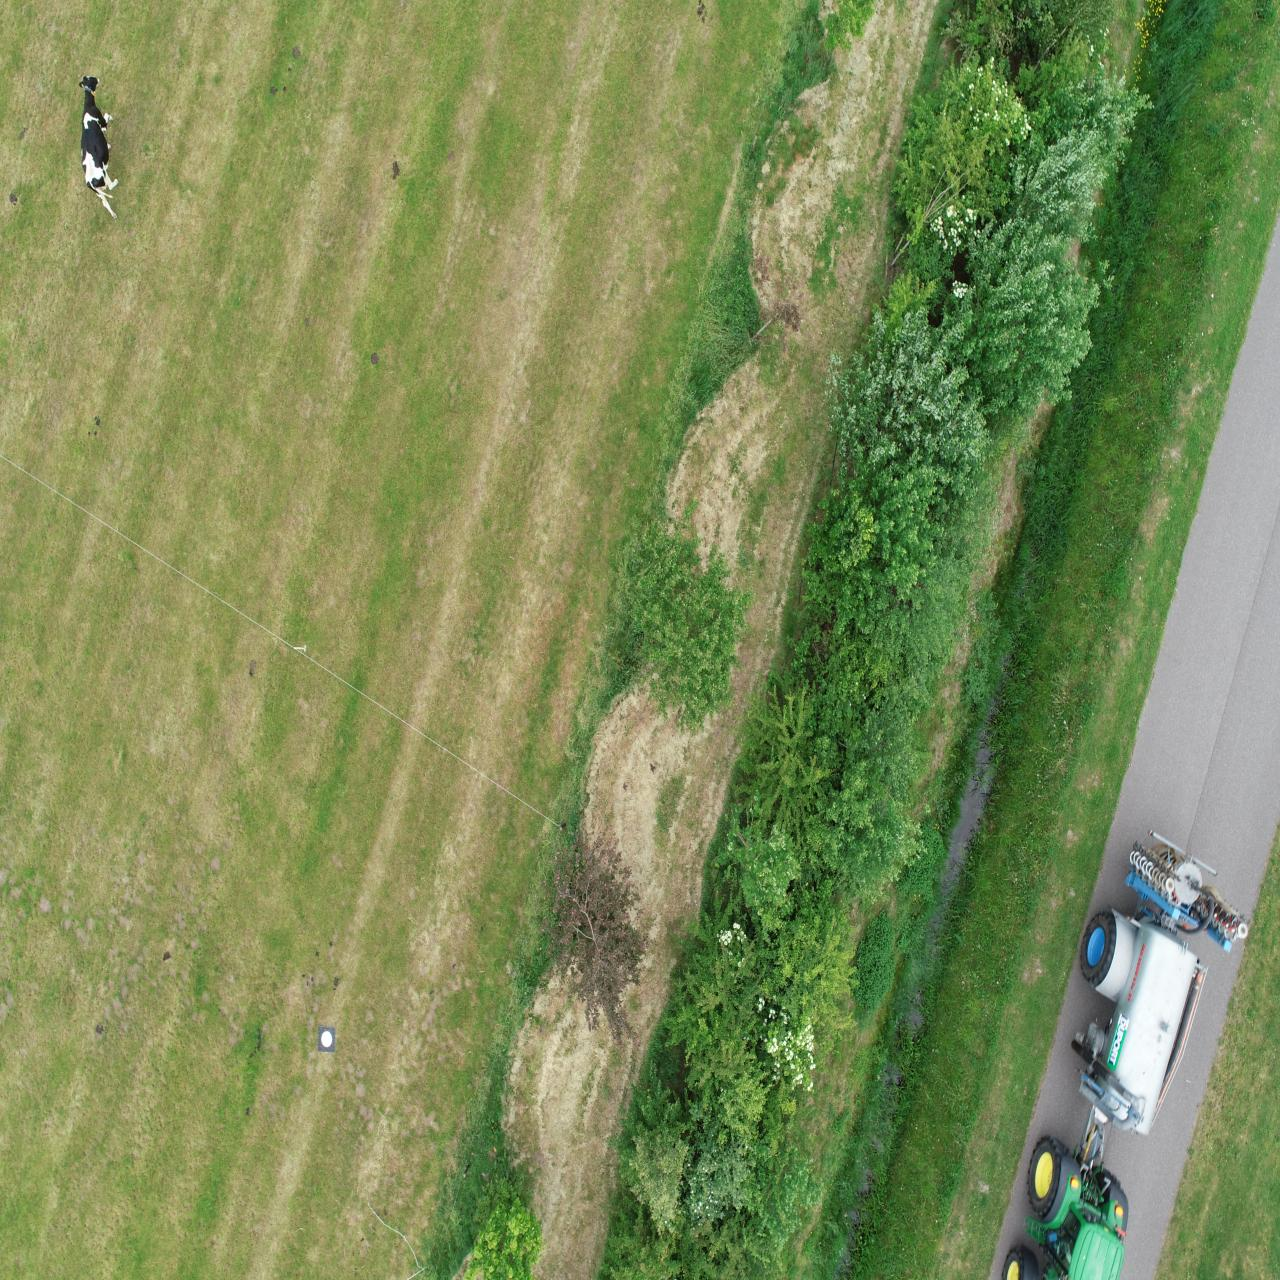cow: (995, 858, 1032, 914), (831, 588, 863, 646), (786, 505, 814, 556), (932, 711, 962, 758), (913, 656, 932, 726)
